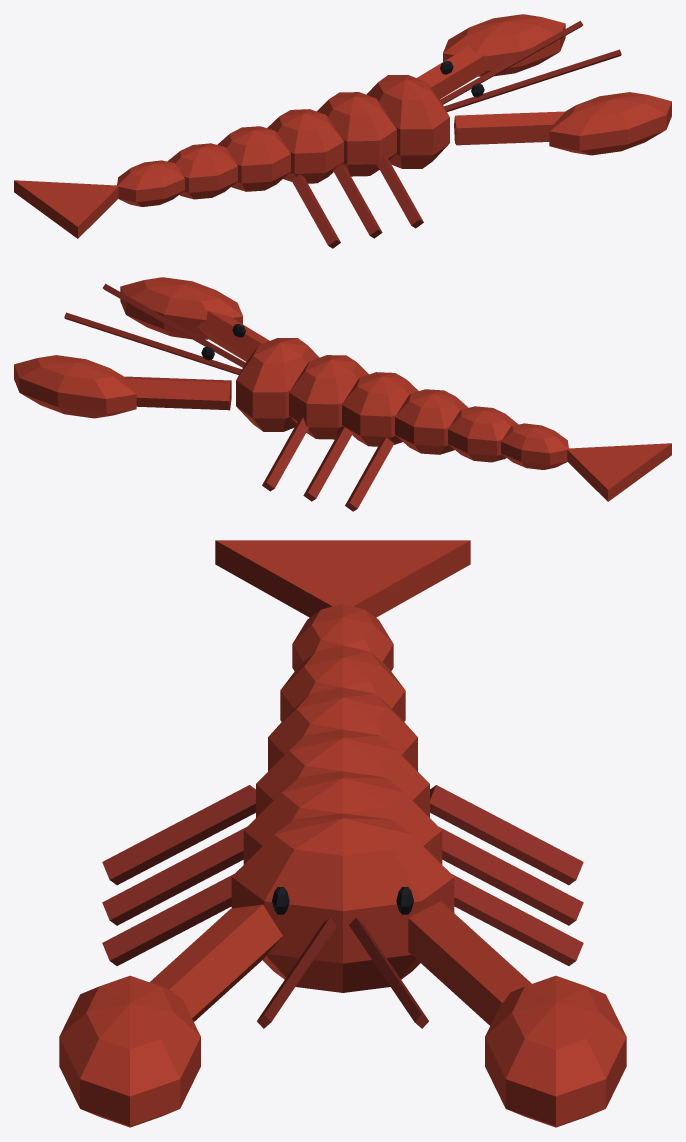
File: fish-lobster.glb
3 views of the same model, one above another, from view 1: azimuth 30°, elevation 25°; view 2: azimuth 150°, elevation 25°; view 3: azimuth 270°, elevation 25° (orthographic). The views are drawn at different scales.
Parts seen in each view (by area): view 1: fish-lobster; view 2: fish-lobster; view 3: fish-lobster.
Part boxes in pixels (x1=…): fish-lobster: x1=14, y1=14, x2=671, y2=248; fish-lobster: x1=14, y1=277, x2=671, y2=511; fish-lobster: x1=59, y1=540, x2=626, y2=1127.
Bounding box in the file's own units: 1.24 × 0.2001 × 0.5331.
